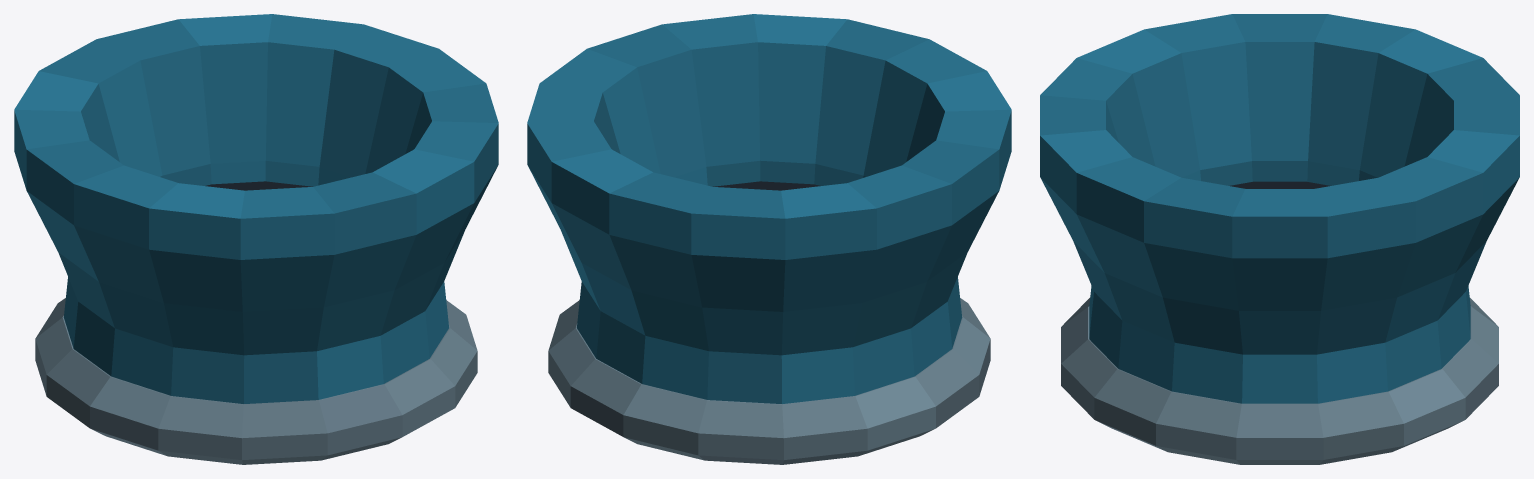
Rendered from QR_RecessedTail.fbx.
The picture shows the model from 3 angles, left to right: view 1: azimuth 30°, elevation 25°; view 2: azimuth 150°, elevation 25°; view 3: azimuth 270°, elevation 25°; orthographic projection.
Visible parts, largest first — view 1: QR_RecessedTail; view 2: QR_RecessedTail; view 3: QR_RecessedTail.
Boxes of the visible parts, left/top/right/bottom form: QR_RecessedTail: left=14, top=14, right=498, bottom=464; QR_RecessedTail: left=527, top=14, right=1011, bottom=464; QR_RecessedTail: left=1040, top=14, right=1519, bottom=464.
Size of the model in its own units: 0.7846 by 0.48 by 0.7846.
